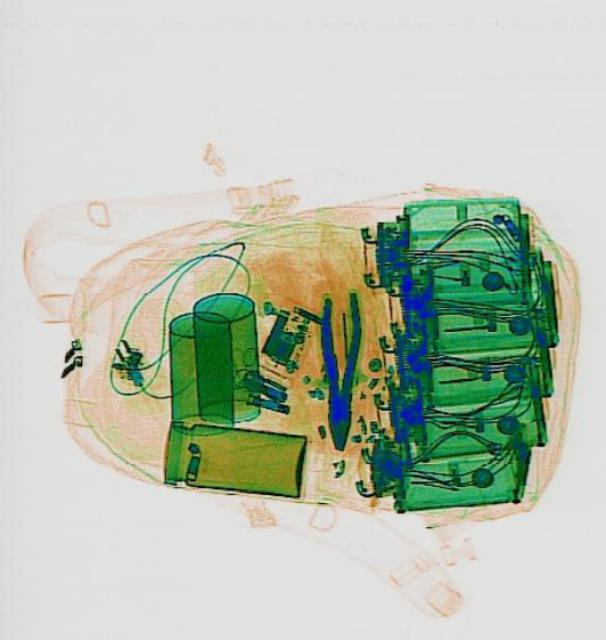Pliers: (317, 292, 360, 451)
